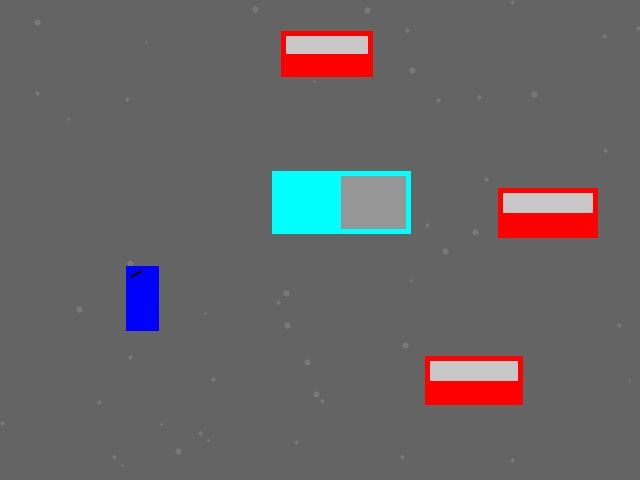car: (498, 188, 597, 237), (425, 356, 522, 404), (281, 31, 372, 76)
motorcycle: (126, 266, 158, 330)
truck: (272, 171, 410, 233)
